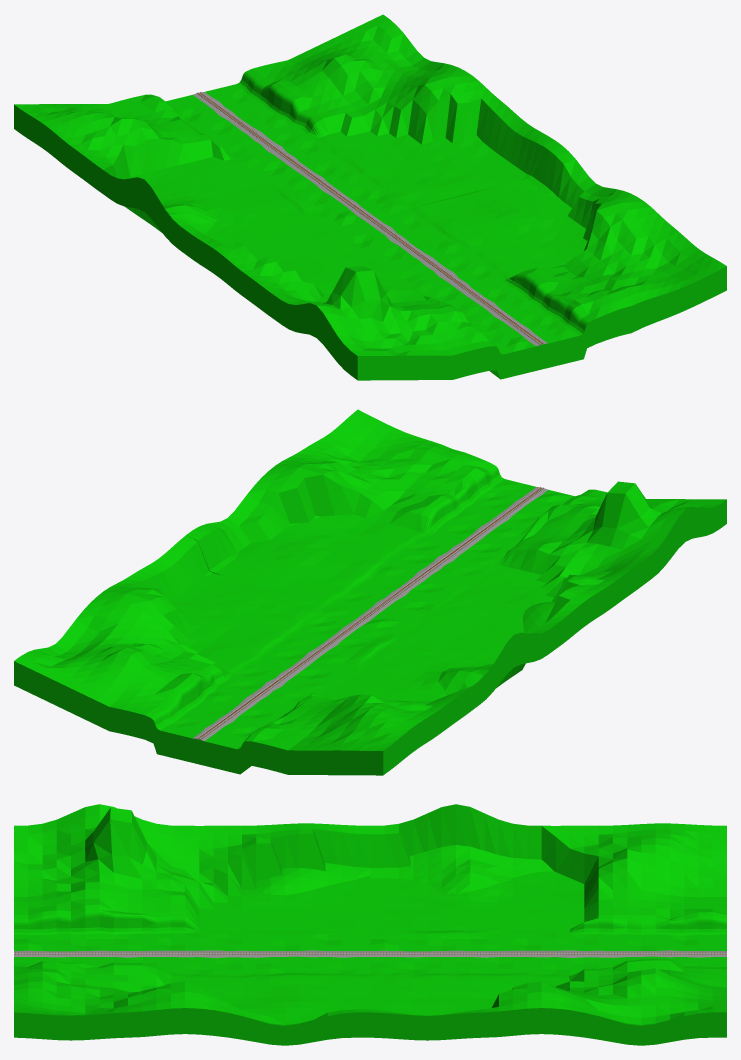
Rendered from Grasslands city.fbx.
3 views of the same model, one above another, from view 1: azimuth 30°, elevation 25°; view 2: azimuth 150°, elevation 25°; view 3: azimuth 270°, elevation 25° (orthographic). The views are drawn at different scales.
Parts seen in each view (by area): view 1: Cube_3_4, Cube_4_3; view 2: Cube_4_3, Cube_3_4; view 3: Cube_3_4, Cube_4_3, Cube, Cube_2_3.
Part boxes in pixels (x1,y1,x2,y2): Cube_3_4: (186,140,726,380); Cube_4_3: (14,14,554,254); Cube_4_3: (14,535,554,775); Cube_3_4: (186,409,726,649); Cube_3_4: (14,804,370,1045); Cube_4_3: (370,804,726,1045); Cube: (14,952,370,953); Cube_2_3: (370,952,726,953).
Size of the model in its own units: 3100 by 783 by 5000.
